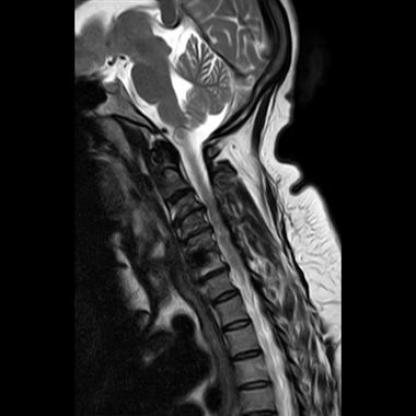Disc Bulgerotation: (193, 269, 232, 282), (172, 210, 207, 222)
Osteophytesrotation: (193, 269, 232, 282), (177, 230, 216, 242), (172, 210, 207, 222)
